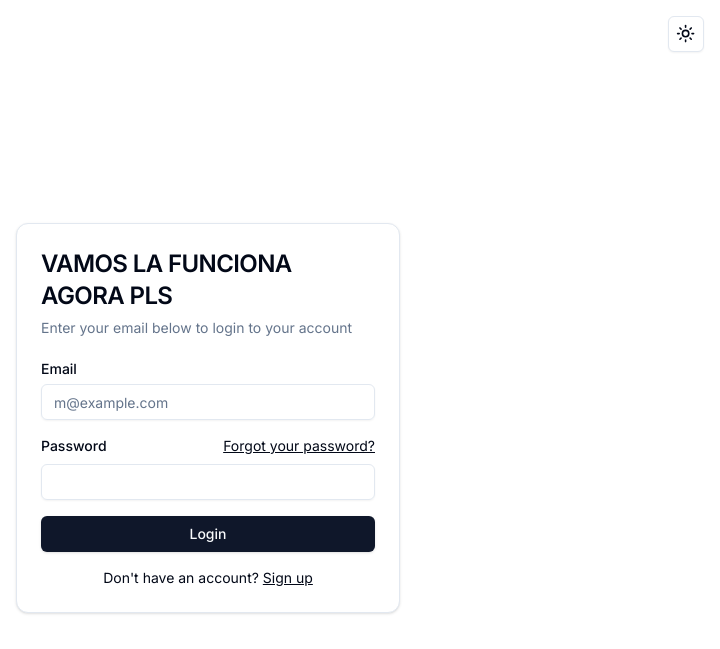
Login Page - Unsuccessful Login when email is wrong. › Should not login successfully
The width and height of the screenshot is (720, 649).
Type "admin1@adsmin.ai" into the field with test id "email-input" at (208, 402), box [41,384,375,420]
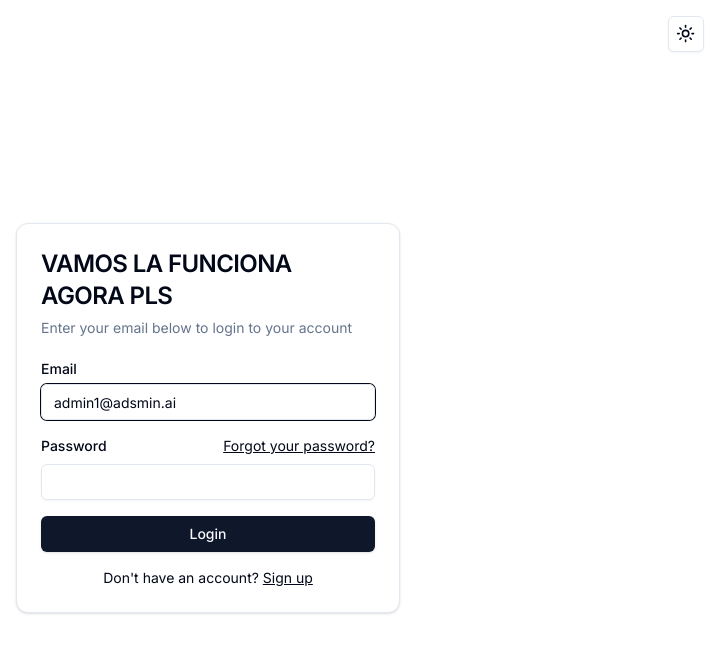
Type "admin" into the password field with test id "password-input" at (208, 482), box [41,464,375,500]
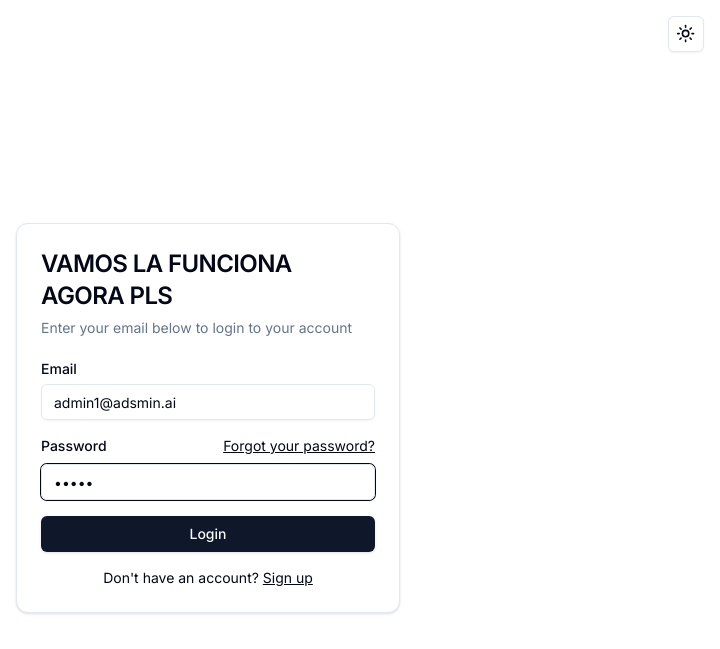
Click the button with test id "submit-login-btn" at (208, 534), box [41,516,375,552]
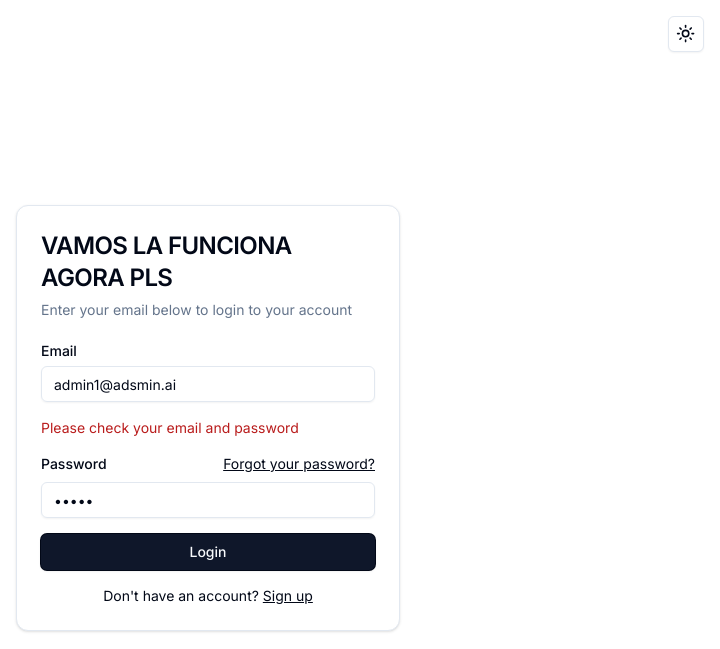
Check: the text with test id "email-error" reads "Please check your email and password", box [41,419,299,436]
